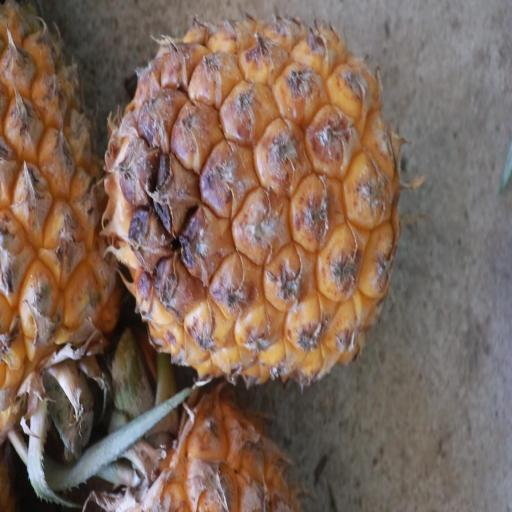Pineapple - v8 v1: (105, 18, 408, 392), (0, 4, 131, 512)
